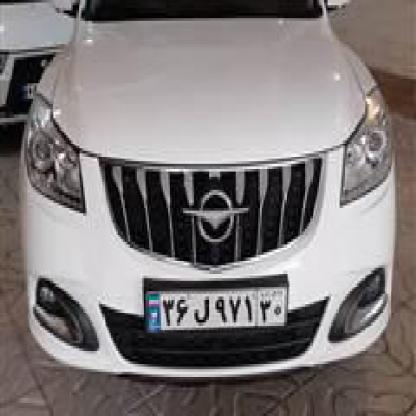car: (0, 0, 404, 406), (0, 0, 97, 156)
